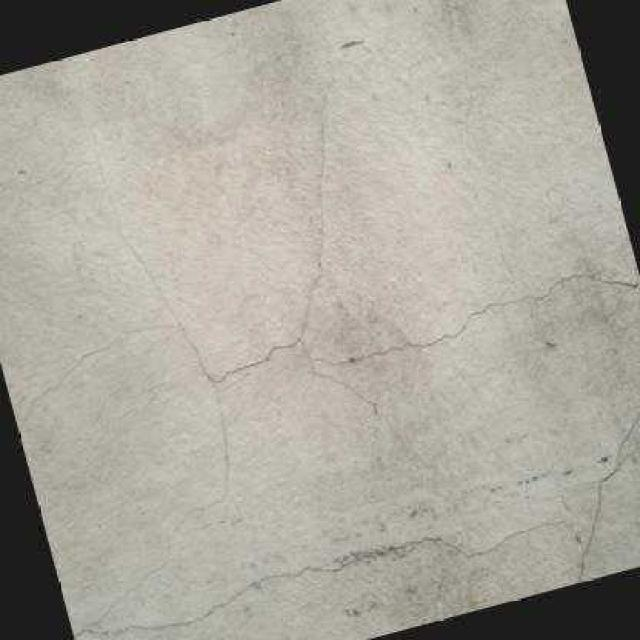D00: (71, 513, 565, 640), (315, 243, 640, 369), (573, 392, 640, 584)
